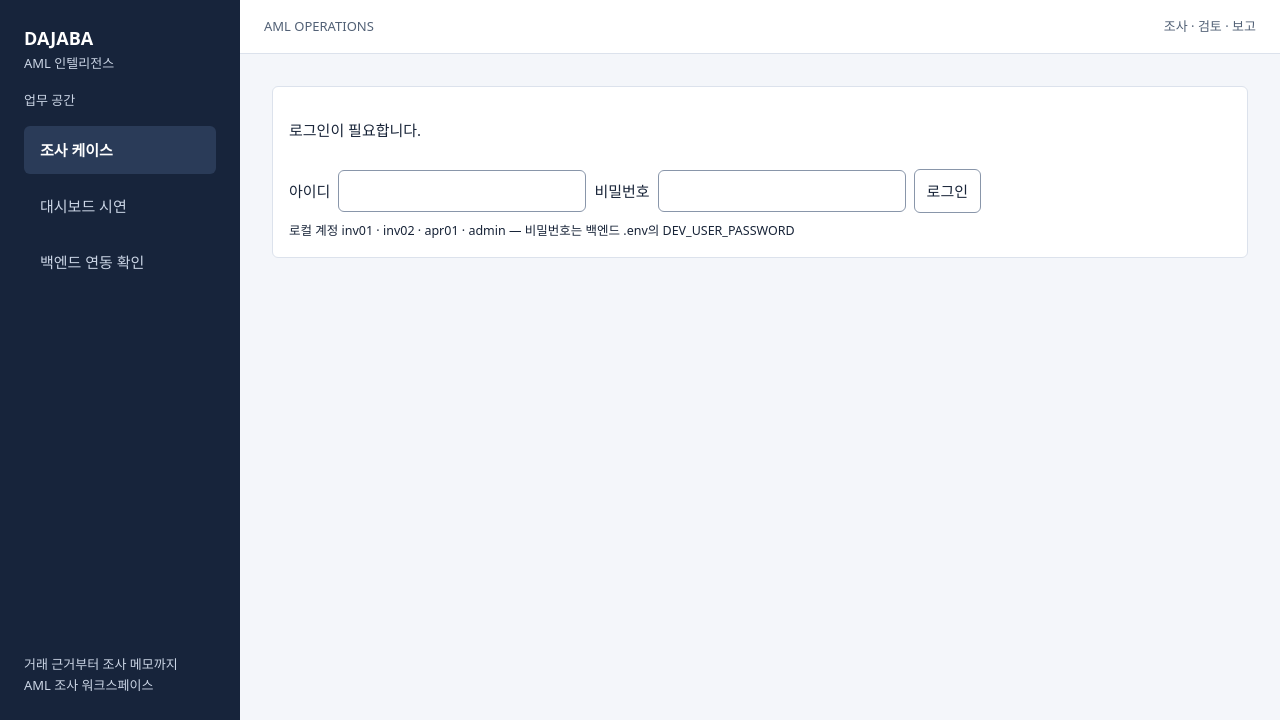
Test: 세션과 업무 정보 격리 › 미인증 상태에서는 업무 조회를 시작하지 않고 로그인 후 상세 URL을 유지한다
Expected: the text "로그인이 필요합니다." is shown, [289,118,421,142]
Type "inv01" into the field labelled "아이디" at (462, 191), box [338,170,586,212]
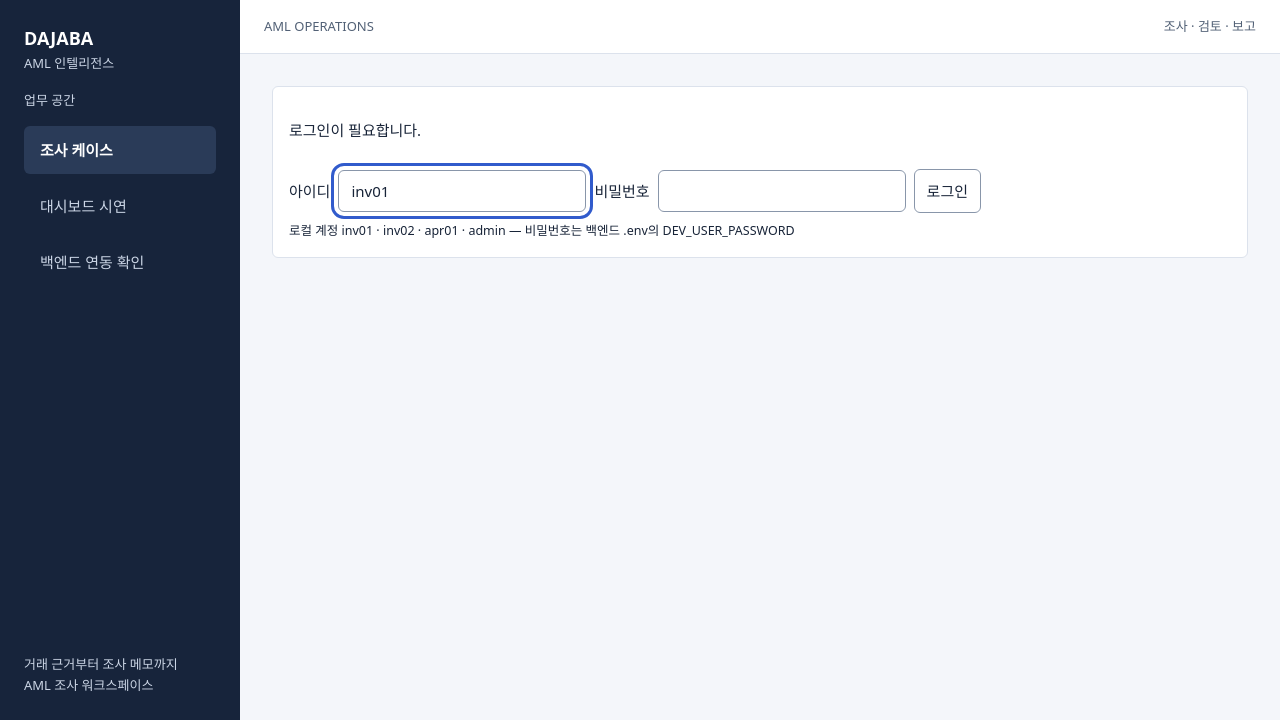
Type "mock-password" into the password field labelled "비밀번호" at (782, 191), box [658,170,906,212]
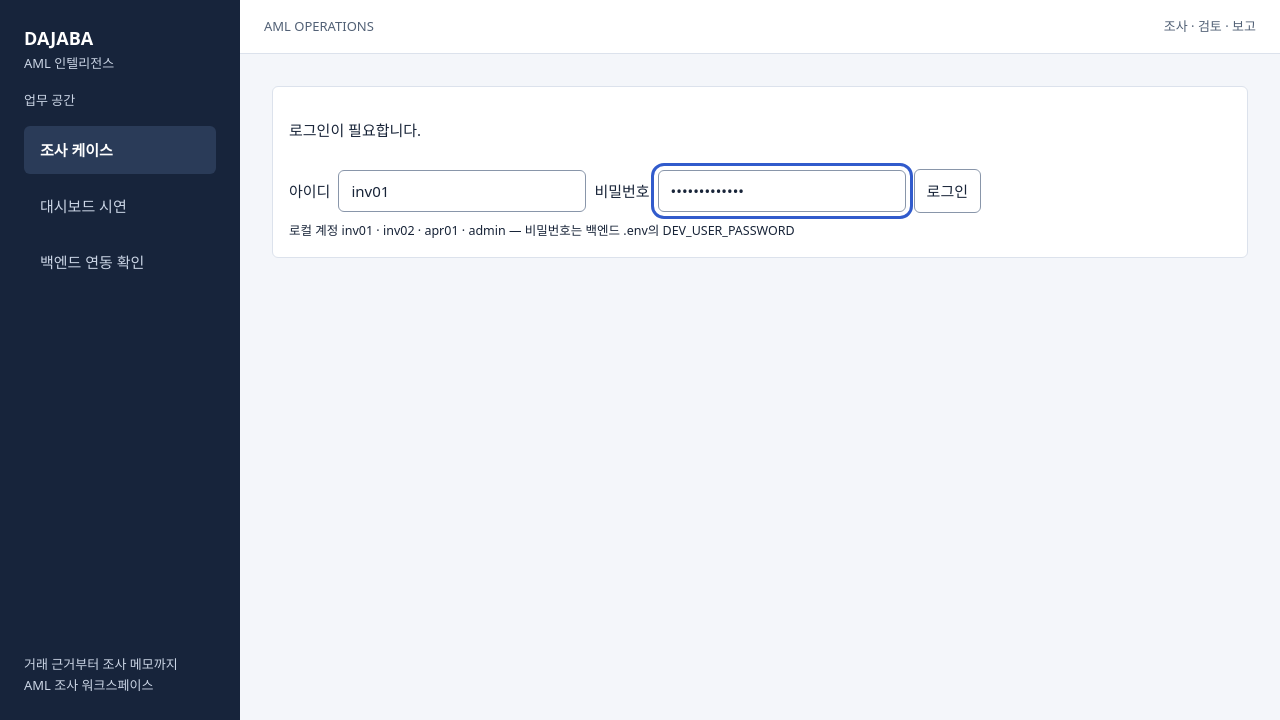
Click the button "로그인" at (947, 191), box [914,169,981,213]
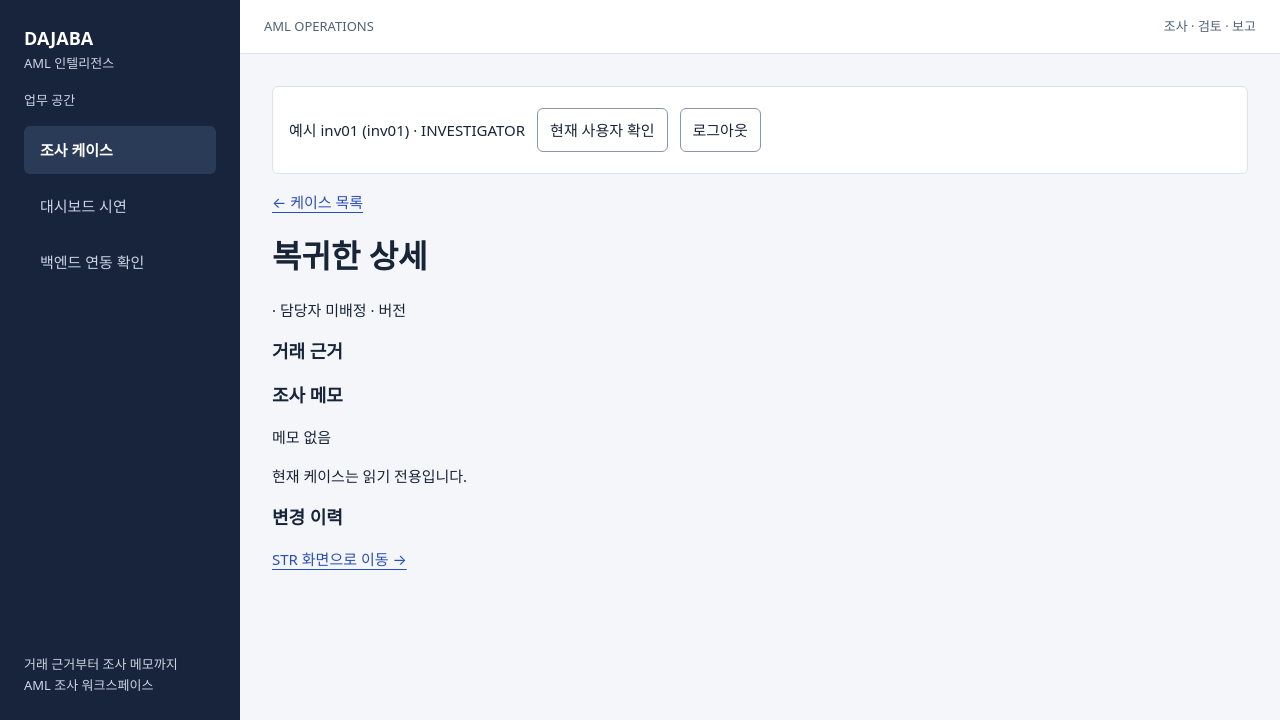
Expected: the heading "복귀한 상세" is shown, [272,234,428,277]
